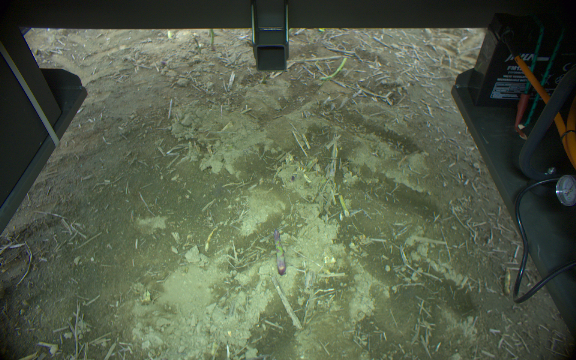aspa: (318, 55, 347, 83), (271, 227, 287, 275), (207, 27, 217, 52)
